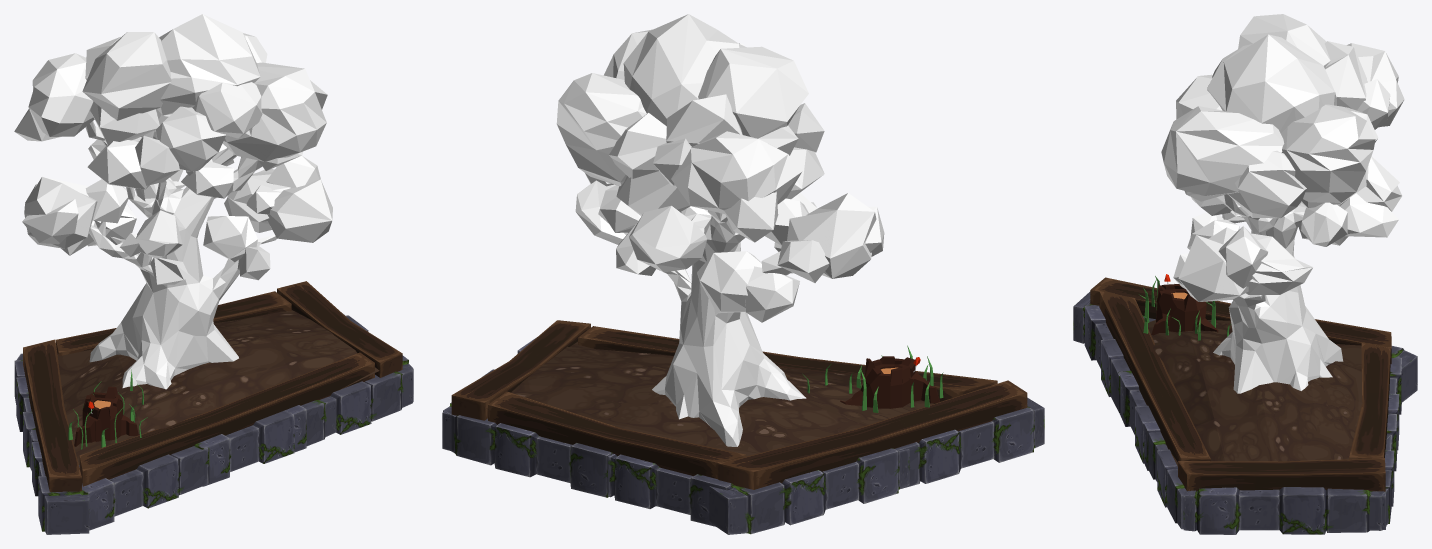
The model's file is GardenSec3 1.fbx.
3 renders of one model, left to right at view 1: azimuth 30°, elevation 25°; view 2: azimuth 150°, elevation 25°; view 3: azimuth 270°, elevation 25°, orthographic. The views are drawn at different scales.
Visible parts, largest first — view 1: fattree.002; view 2: fattree.002; view 3: fattree.002.
Part boxes in pixels (x1,y1,x2,y2): fattree.002: (14, 14, 413, 534); fattree.002: (442, 14, 1044, 534); fattree.002: (1073, 14, 1417, 534).
Bounding box in the file's own units: 9.13 × 8.47 × 6.39.
9 materials, 3 textured.
